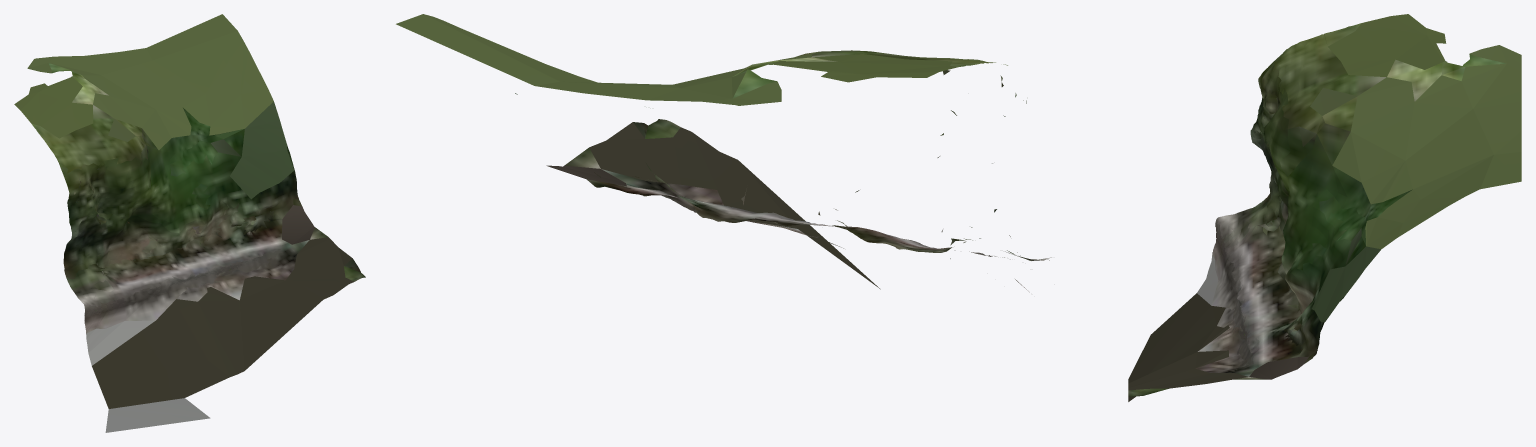
3 views of the same model, side by side, from view 1: azimuth 30°, elevation 25°; view 2: azimuth 150°, elevation 25°; view 3: azimuth 270°, elevation 25° (orthographic). The views are drawn at different scales.
Bounding box in the file's own units: 0.983 × 0.983 × 0.983.
Materials: 1 (1 with a texture image).
